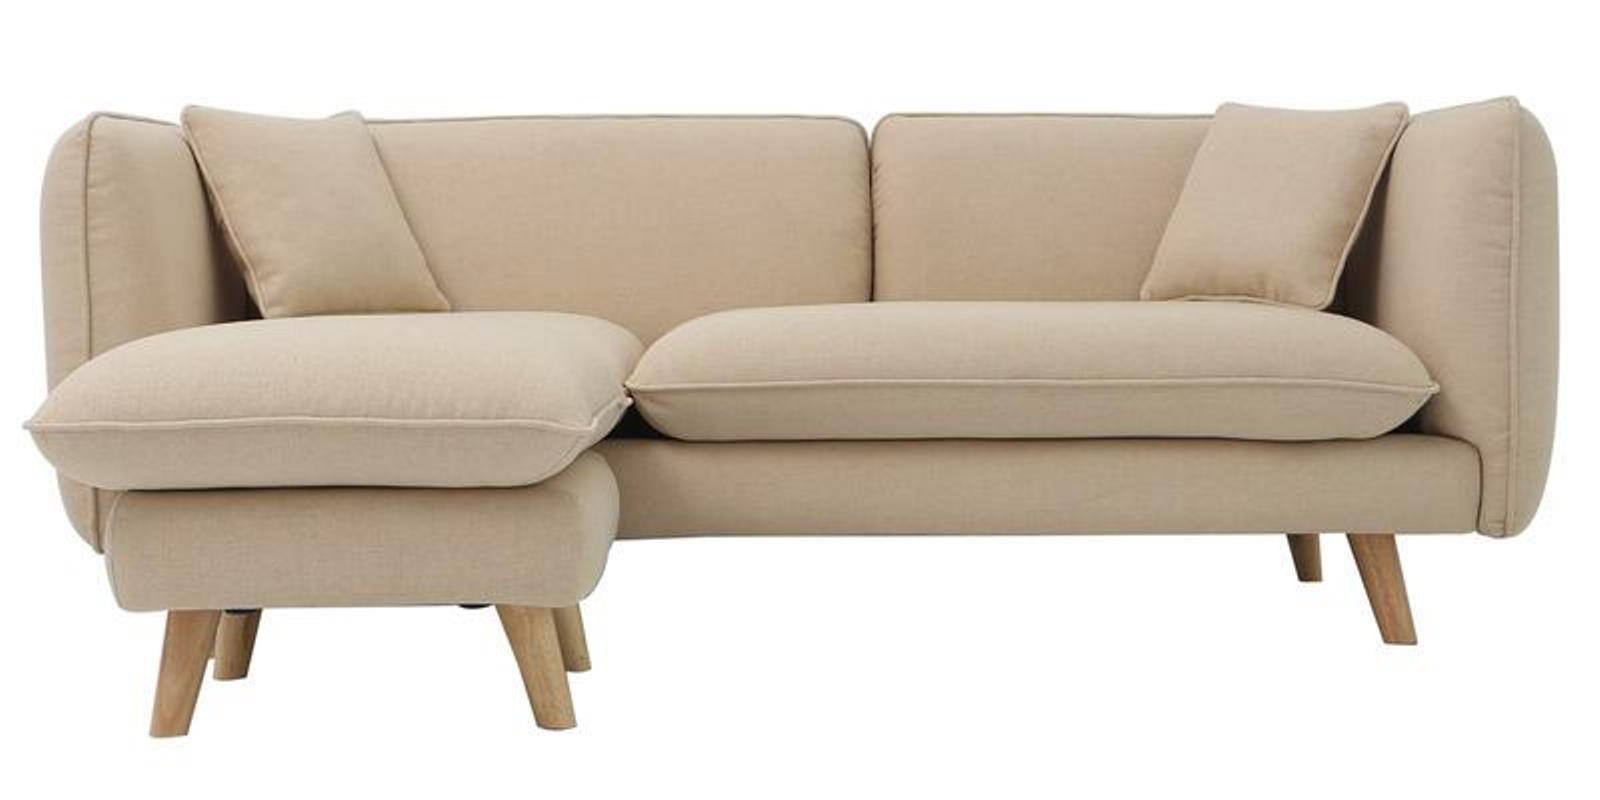Gloria Three Seater Sofa with Ottoman in Beige Colour by CasaCraft: (23, 92, 1576, 753)
